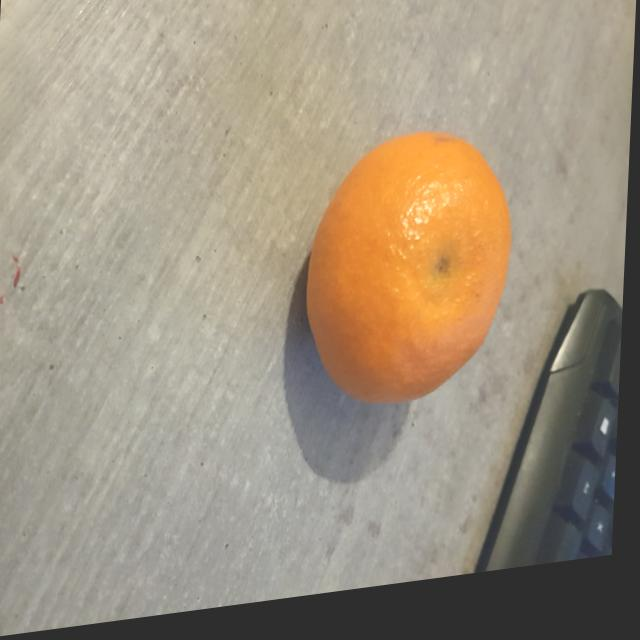Orange: (307, 144, 513, 416)
